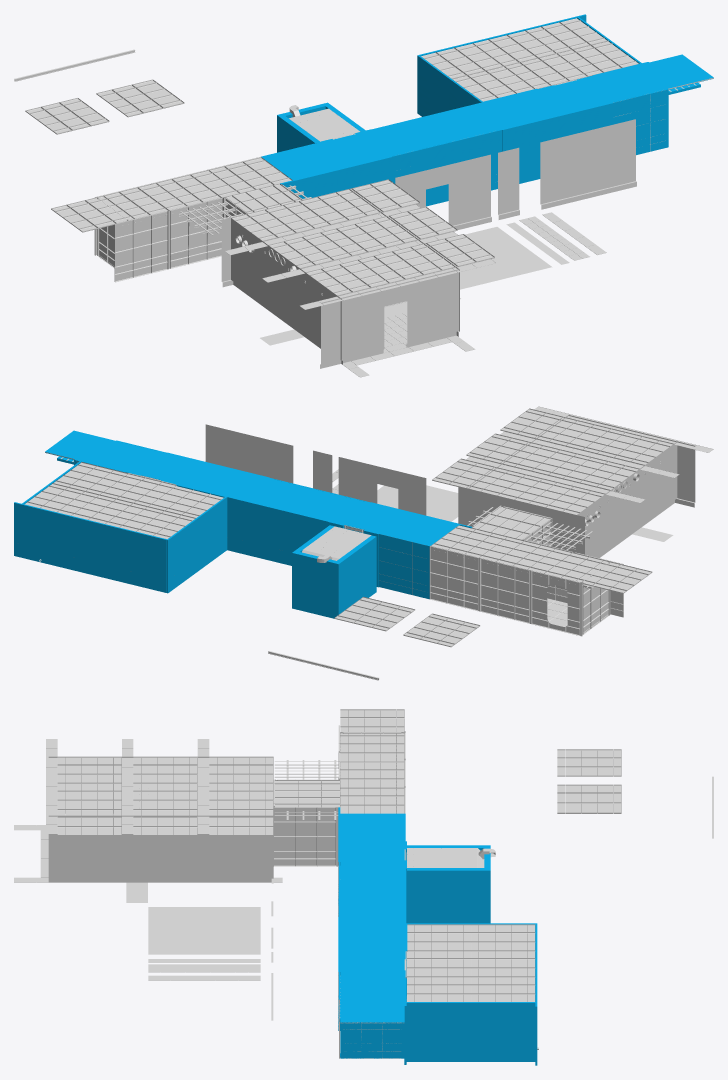
The model's file is SM_Interior1_1.glb.
3 views of the same model, one above another, from view 1: azimuth 30°, elevation 25°; view 2: azimuth 150°, elevation 25°; view 3: azimuth 270°, elevation 25° (orthographic). The views are drawn at different scales.
Parts seen in each view (by area): view 1: SM_TrimTiles1_Wall1.002, SM_TrimTiles1_Wall3_Frame.002, SM_TrimTiles1_Wall3_Frame.001, SM_TrimConcrete1.012, SM_TrimTiles1_Wall1.003, Plane.021, SM_TrimConcrete2_Damaged.006, SM_Interior2_convcolonly_045, SM_TrimTiles1_Wall1.005, SM_Interior2_convcolonly_081, SM_TrimConcrete1_Ceeling4.001, SM_TrimConcrete1_Ceeling1.015 (+49 smaller); view 2: SM_TrimTiles1_Wall1.002, SM_TrimTiles1_Wall3_Frame.001, SM_Interior2_convcolonly_075, SM_Interior2_convcolonly_006, SM_Interior2_convcolonly_005, SM_TrimConcrete1.010, SM_TrimConcrete1.009, SM_Interior2_convcolonly_007, SM_Interior2_convcolonly_076, SM_TrimTiles1_Wall1.005, SM_Interior2_convcolonly_048, SM_TrimTiles1_Wall1.003 (+48 smaller); view 3: SM_TrimTiles1_Wall1.004, SM_TrimTiles1_Wall1, Plane.021, SM_Interior2_convcolonly_074, SM_Interior2_convcolonly_008, SM_Interior2_convcolonly_009, SM_TrimConcrete1.007, SM_Interior2_convcolonly_063, SM_TrimConcrete1_Ceeling4.001, SM_TrimConcrete1_Ceeling4, SM_TrimConcrete1_Ceeling1.015, SM_Interior2_convcolonly_055 (+36 smaller).
Boxes of the visible parts, <box> form: SM_TrimTiles1_Wall1.002: <box>540,119,636,209</box>; SM_TrimTiles1_Wall3_Frame.002: <box>342,274,437,362</box>; SM_TrimTiles1_Wall3_Frame.001: <box>395,154,491,229</box>; SM_TrimConcrete1.012: <box>114,210,170,282</box>; SM_TrimTiles1_Wall1.003: <box>231,219,287,324</box>; Plane.021: <box>460,227,552,289</box>; SM_TrimConcrete2_Damaged.006: <box>170,197,225,268</box>; SM_Interior2_convcolonly_045: <box>613,89,668,154</box>; SM_TrimTiles1_Wall1.005: <box>286,259,342,364</box>; SM_Interior2_convcolonly_081: <box>502,116,557,183</box>; SM_TrimConcrete1_Ceeling4.001: <box>96,79,184,117</box>; SM_TrimConcrete1_Ceeling1.015: <box>25,98,109,134</box>; SM_TrimTiles1_Wall1.002: <box>205,424,293,483</box>; SM_TrimTiles1_Wall3_Frame.001: <box>338,457,426,515</box>; SM_Interior2_convcolonly_075: <box>292,551,341,618</box>; SM_Interior2_convcolonly_006: <box>64,514,115,580</box>; SM_Interior2_convcolonly_005: <box>115,527,166,592</box>; SM_TrimConcrete1.010: <box>480,558,531,623</box>; SM_TrimConcrete1.009: <box>429,546,480,611</box>; SM_Interior2_convcolonly_007: <box>14,502,65,567</box>; SM_Interior2_convcolonly_076: <box>227,496,277,562</box>; SM_TrimTiles1_Wall1.005: <box>626,441,677,538</box>; SM_Interior2_convcolonly_048: <box>379,533,429,599</box>; SM_TrimTiles1_Wall1.003: <box>578,479,627,557</box>; SM_TrimTiles1_Wall1.004: <box>48,815,161,882</box>; SM_TrimTiles1_Wall1: <box>161,815,273,882</box>; Plane.021: <box>148,907,260,954</box>; SM_Interior2_convcolonly_074: <box>407,868,484,923</box>; SM_Interior2_convcolonly_008: <box>470,1002,535,1061</box>; SM_Interior2_convcolonly_009: <box>406,1002,470,1061</box>; SM_TrimConcrete1.007: <box>273,807,338,866</box>; SM_Interior2_convcolonly_063: <box>340,999,404,1058</box>; SM_TrimConcrete1_Ceeling4.001: <box>557,784,621,813</box>; SM_TrimConcrete1_Ceeling4: <box>273,780,340,807</box>; SM_TrimConcrete1_Ceeling1.015: <box>557,749,621,776</box>; SM_Interior2_convcolonly_055: <box>340,996,404,1023</box>.
Size of what is drawn, in the model's own units: 27.34 by 3.04 by 25.83.
